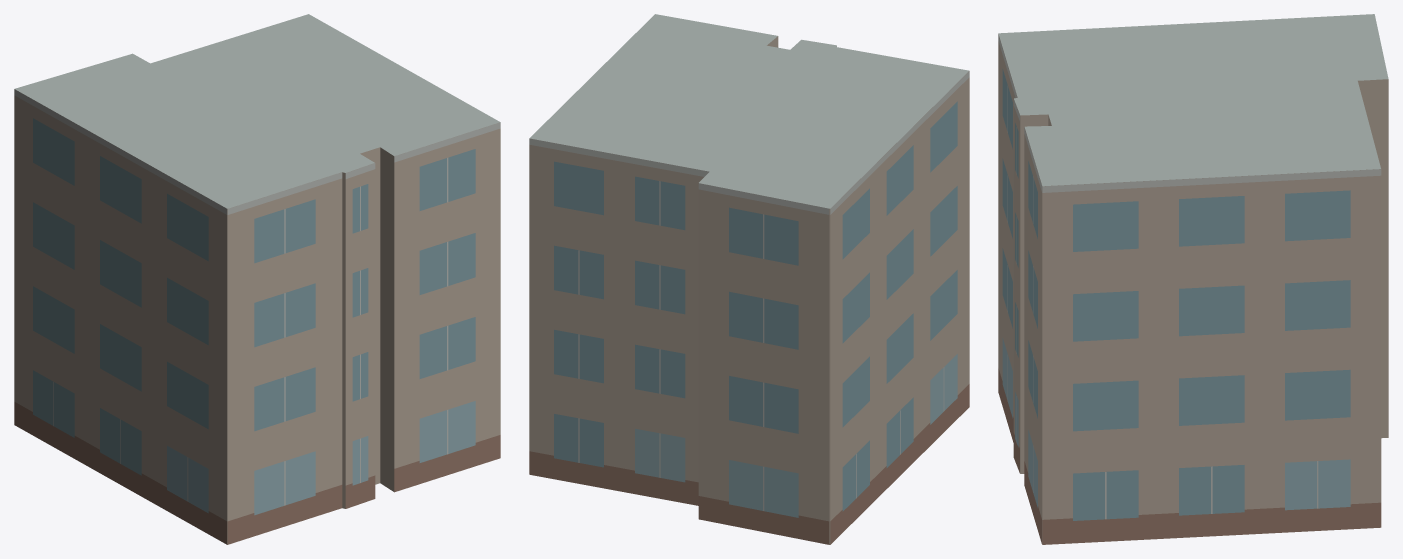
The model's file is survey-upis-32819567.glb.
The picture shows the model from 3 angles, left to right: view 1: azimuth 30°, elevation 25°; view 2: azimuth 150°, elevation 25°; view 3: azimuth 270°, elevation 25°; orthographic projection. The views are drawn at different scales.
Visible parts, largest first — view 1: survey-upis-32819567.tmp; view 2: survey-upis-32819567.tmp; view 3: survey-upis-32819567.tmp.
Boxes of the visible parts, <box> form: survey-upis-32819567.tmp: <box>14,14,500,544</box>; survey-upis-32819567.tmp: <box>529,14,969,544</box>; survey-upis-32819567.tmp: <box>998,14,1388,544</box>.
Bounding box in the file's own units: 13.4 × 13 × 12.83.
